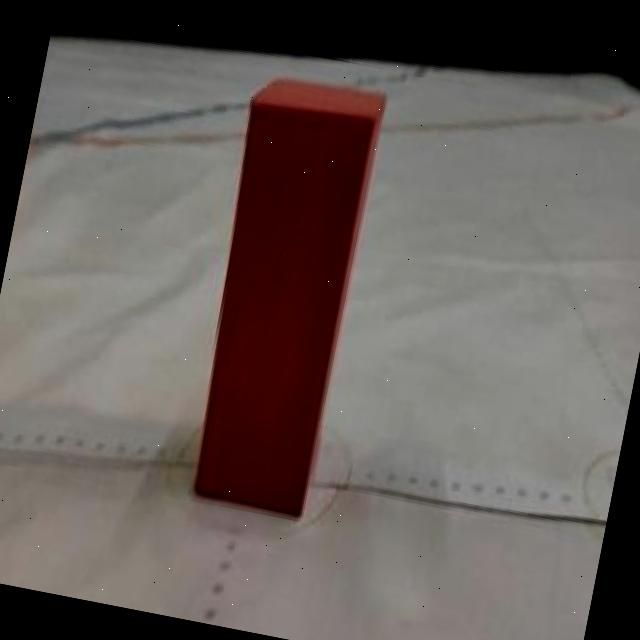redbox: (175, 64, 390, 521)
